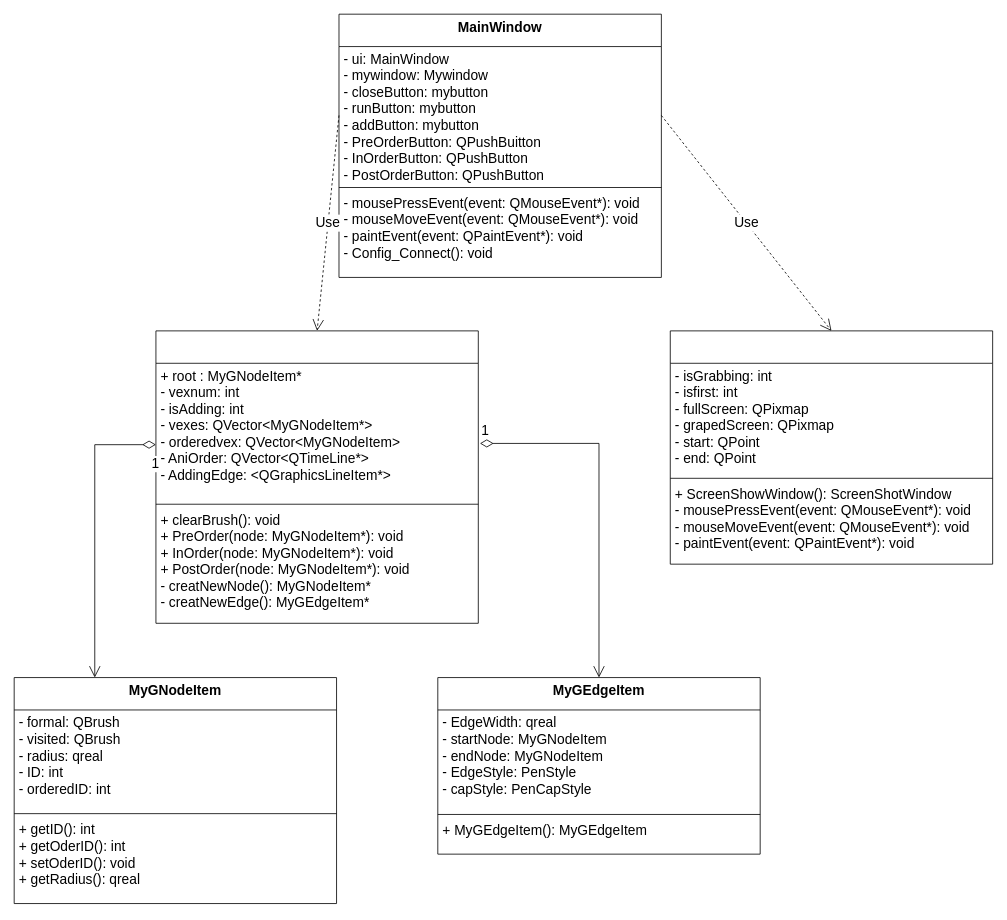
This 1007x920 diagram has some shape labels left out. The shapes that lost their labels are listed below. From the top down, each one's box as (x1, y1, x2, y2) in pixels, then its label:
(669, 330, 993, 564): ScreeneShotWindow
(155, 330, 478, 623): MyGview
